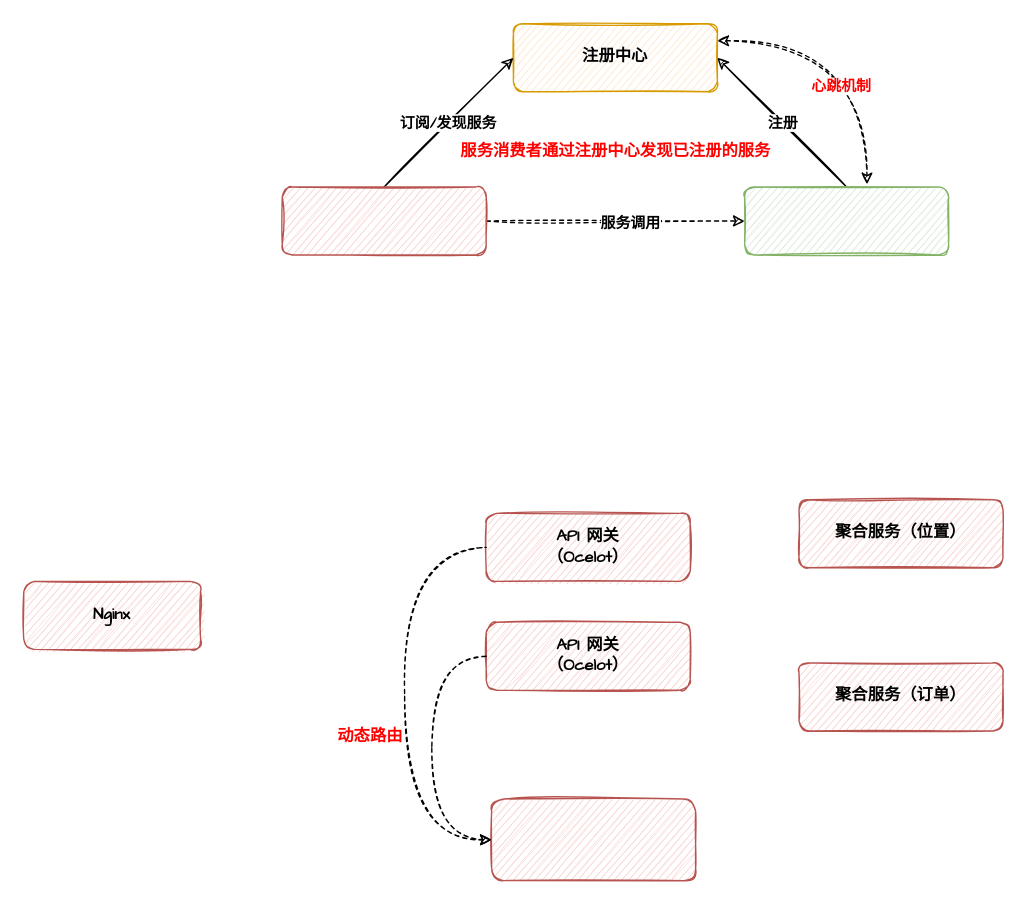
This 1027x915 diagram has some shape labels left out. Each missing label, with the centre of its shape:
"Consule" belongs at (x=593, y=839).
"服务提供者" belongs at (x=846, y=220).
"服务消费者" belongs at (x=383, y=220).
